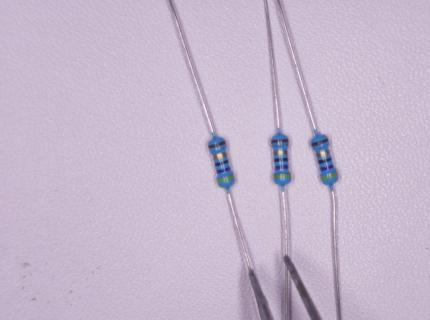Gold band: (214, 152, 227, 160), (317, 149, 330, 157), (274, 150, 288, 155)
Violet band: (217, 166, 231, 174), (320, 164, 334, 171), (275, 165, 288, 170)
Yellow band: (217, 175, 234, 183), (321, 172, 338, 180), (274, 174, 291, 178)
